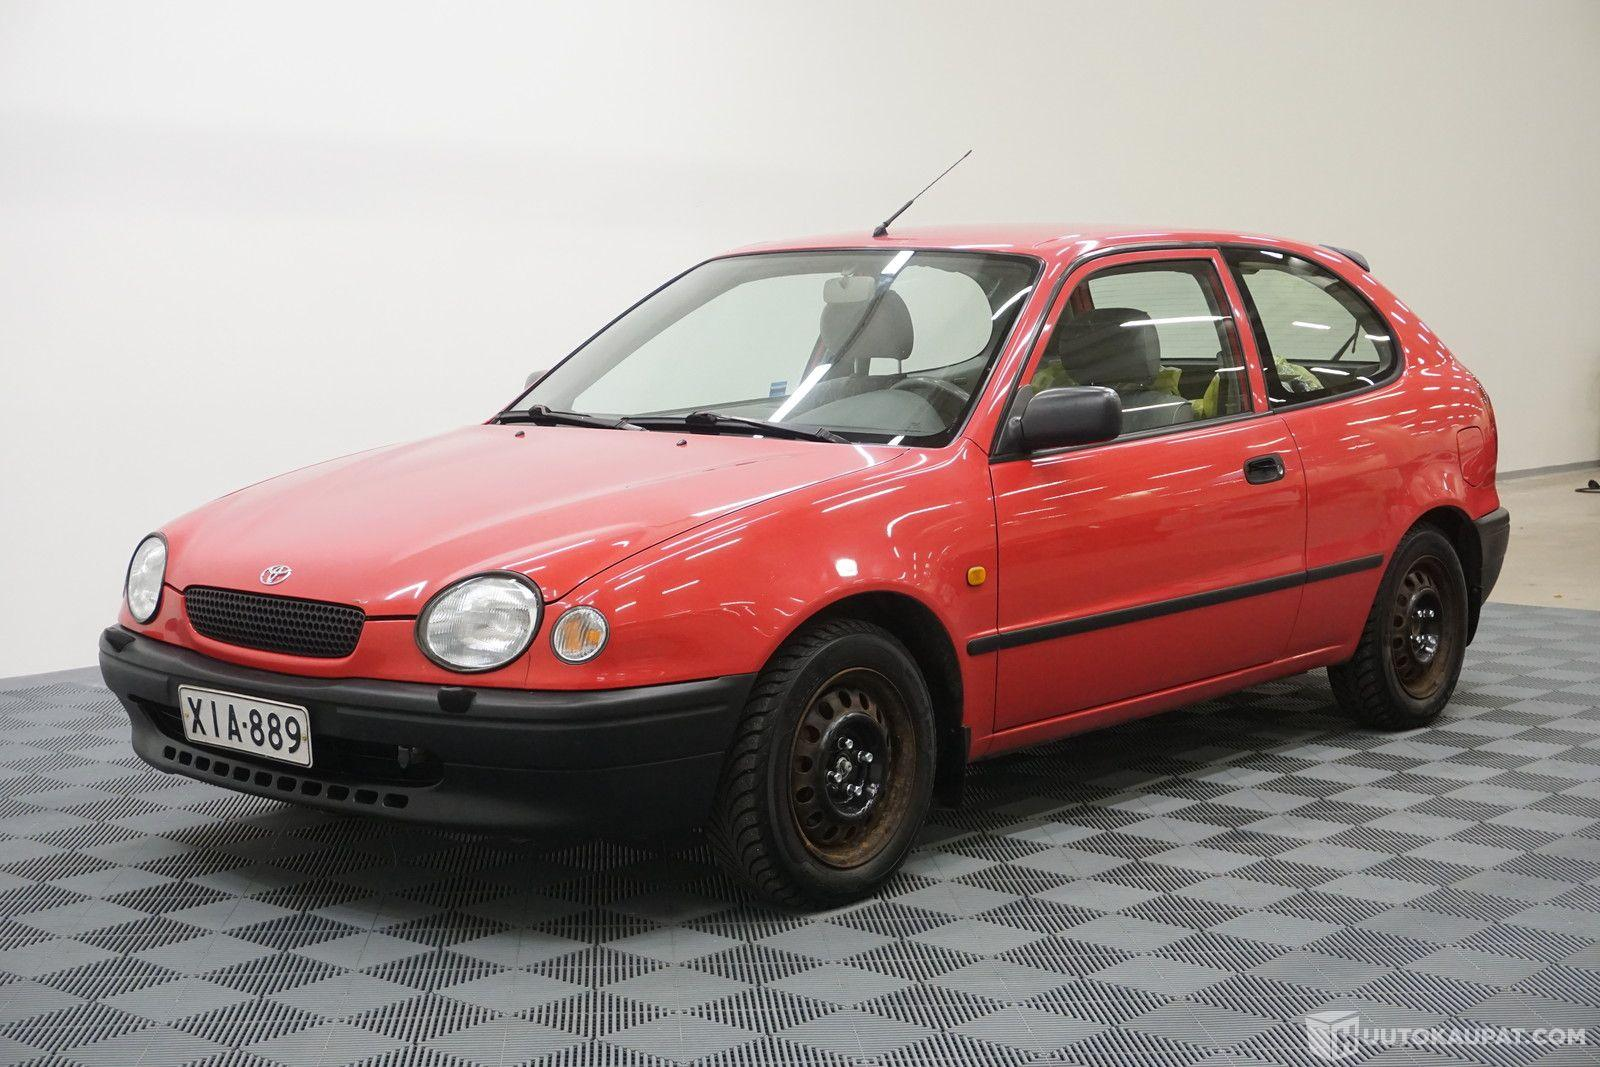car: (90, 144, 1525, 926)
